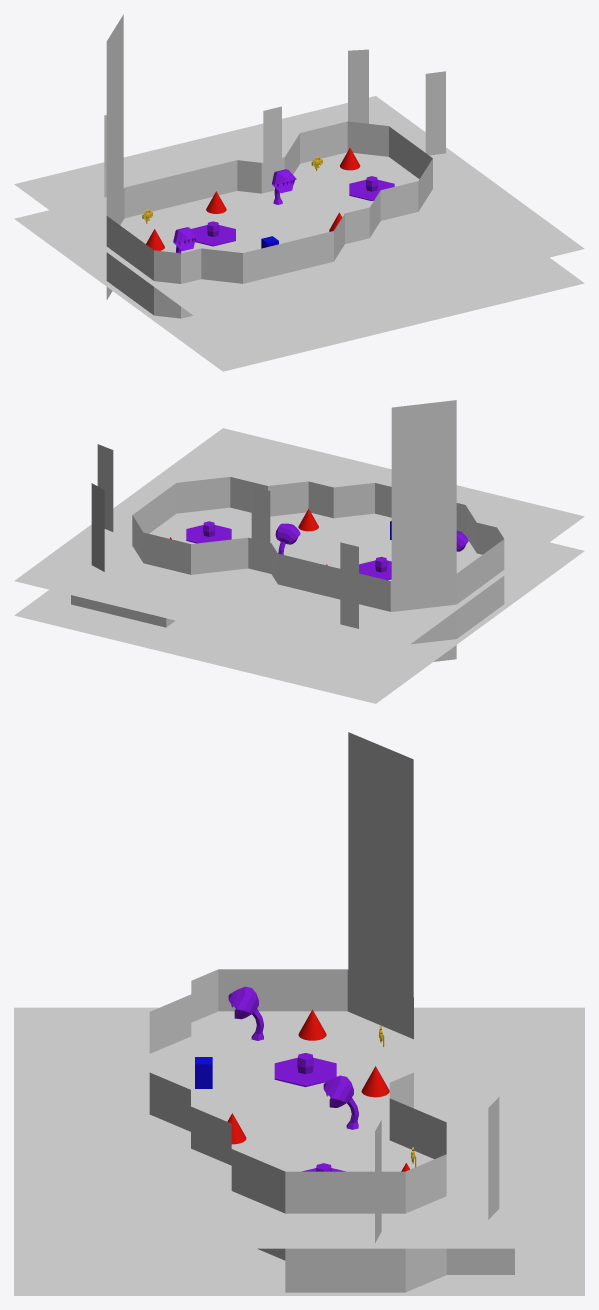
The model's file is N5-Pantano.fbx.
3 renders of one model, top to bottom at view 1: azimuth 30°, elevation 25°; view 2: azimuth 150°, elevation 25°; view 3: azimuth 270°, elevation 25°, orthographic. The views are drawn at different scales.
Parts seen in each view (by area): view 1: Base.006, Limite 1-5, Arbol Sequoia, Arbol.016, Arbol.015, Arbol.014, Barriles en Barro.008, Barriles en Barro.009, Planta Carnivora.002, Planta Carnivora.003; view 2: Base.006, Limite 1-5, Arbol Sequoia, Arbol.017, Arbol.015, Arbol.016, Arbol.014, Barriles en Barro.009, Barriles en Barro.008, Planta Carnivora.002; view 3: Base.006, Limite 1-5, Arbol Sequoia, Barriles en Barro.008, Arbol.015, Planta Carnivora.003, Planta Carnivora.002, Arbol.016.
Boxes of the visible parts, x1,y1,x2,y2 form: Base.006: [14, 96, 584, 371]; Limite 1-5: [106, 121, 432, 283]; Arbol Sequoia: [106, 14, 123, 299]; Arbol.016: [425, 71, 445, 155]; Arbol.015: [348, 49, 368, 123]; Arbol.014: [263, 106, 281, 192]; Barriles en Barro.008: [191, 221, 235, 246]; Barriles en Barro.009: [349, 176, 394, 200]; Planta Carnivora.002: [272, 169, 296, 204]; Planta Carnivora.003: [173, 227, 197, 253]; Base.006: [14, 428, 584, 703]; Limite 1-5: [132, 477, 504, 611]; Arbol Sequoia: [391, 400, 456, 661]; Arbol.017: [340, 542, 358, 628]; Arbol.015: [91, 483, 104, 571]; Arbol.016: [97, 444, 113, 531]; Arbol.014: [251, 486, 270, 542]; Barriles en Barro.009: [186, 521, 231, 543]; Barriles en Barro.008: [359, 556, 391, 580]; Planta Carnivora.002: [275, 523, 300, 554]; Base.006: [14, 1007, 584, 1295]; Limite 1-5: [149, 969, 446, 1213]; Arbol Sequoia: [348, 732, 413, 996]; Barriles en Barro.008: [274, 1053, 336, 1087]; Arbol.015: [488, 1097, 499, 1219]; Planta Carnivora.003: [228, 986, 263, 1040]; Planta Carnivora.002: [323, 1075, 358, 1129]; Arbol.016: [375, 1120, 381, 1243].
Size of the model in its own units: 2196 by 1502 by 2196.
